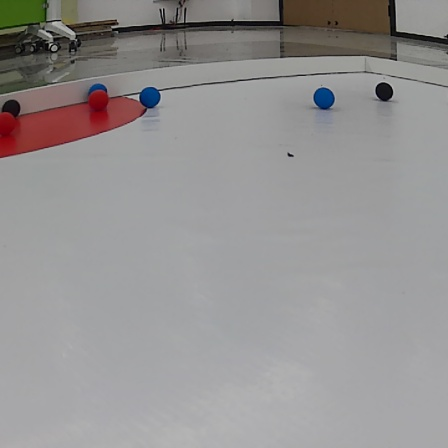black: (1, 97, 23, 117), (373, 82, 396, 101)
blue: (310, 81, 343, 110), (133, 83, 164, 111), (86, 82, 107, 97)
red: (87, 91, 112, 110), (0, 113, 19, 137)
red_base: (0, 89, 158, 159)
